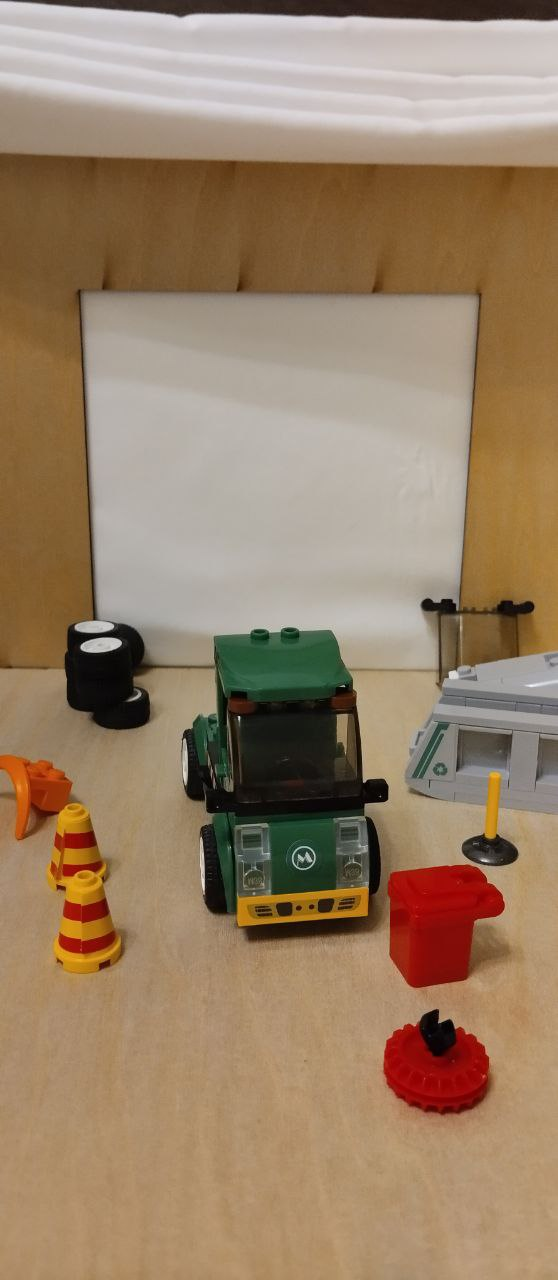Cone: (52, 858, 127, 975), (44, 797, 114, 893)
Object Red: (381, 861, 512, 997)
Truck: (175, 616, 405, 940)
